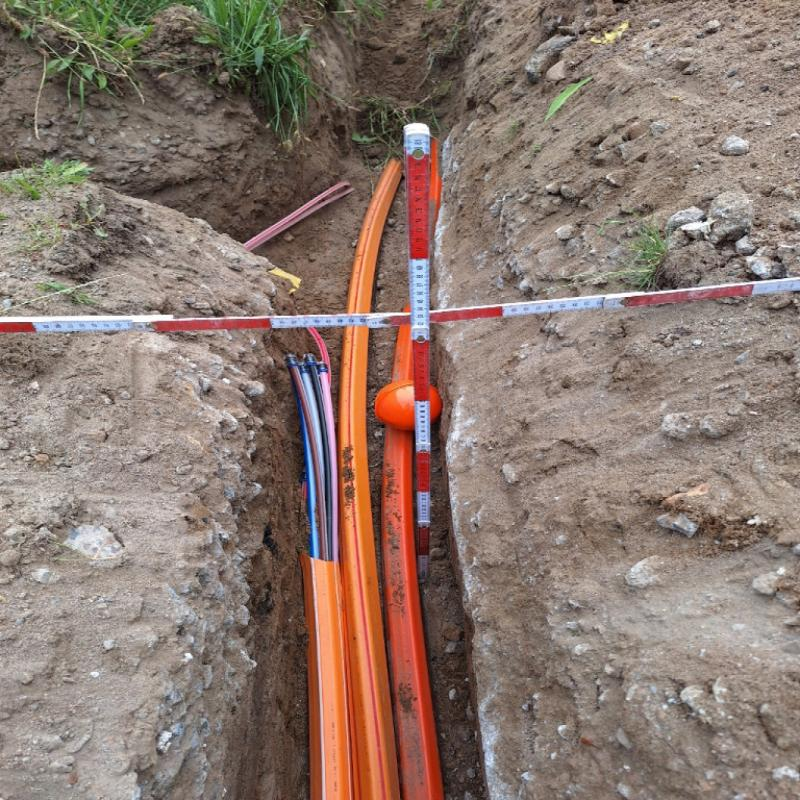Kugelmarker: (373, 383, 419, 433), (428, 385, 443, 415)
Orang-Speednetrohrchen: (342, 326, 400, 798), (384, 430, 441, 800), (305, 558, 353, 797), (346, 158, 401, 310), (393, 329, 413, 383)
